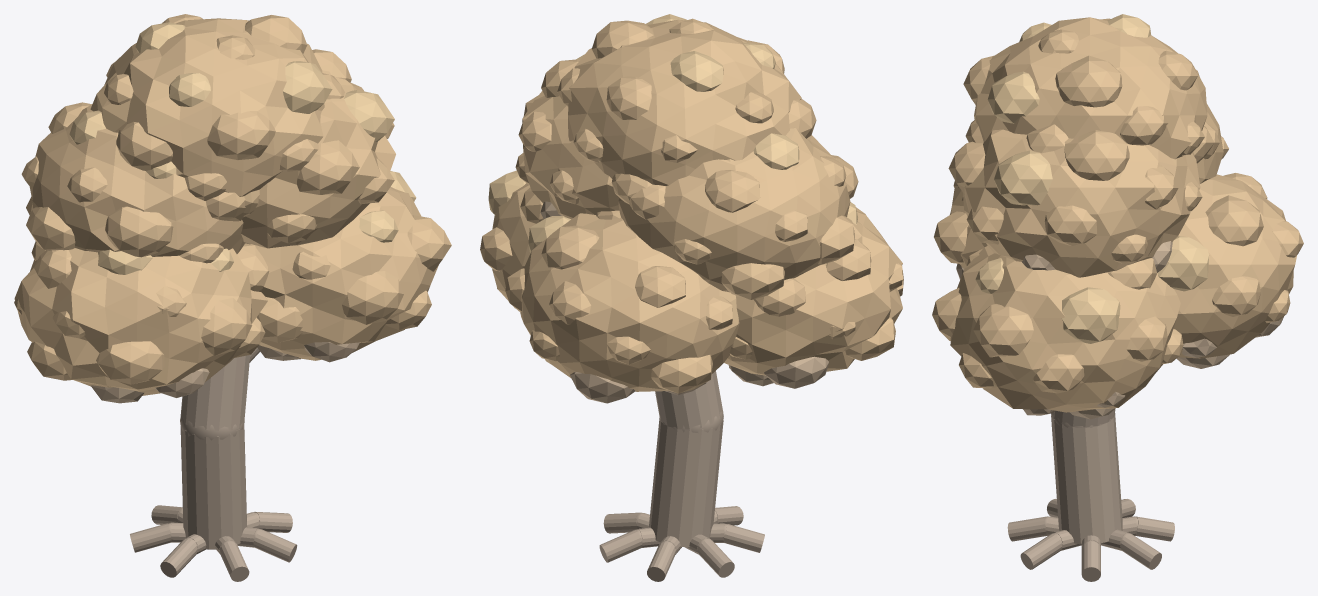
File: library_tree_autumn.glb
The picture shows the model from 3 angles, left to right: view 1: azimuth 30°, elevation 25°; view 2: azimuth 150°, elevation 25°; view 3: azimuth 270°, elevation 25°; orthographic projection.
Visible parts, largest first — view 1: decor_bf884f_matte, decor_806751_matte, decor_d7a15d_matte, decor_94714f_matte; view 2: decor_bf884f_matte, decor_806751_matte, decor_d7a15d_matte, decor_94714f_matte; view 3: decor_bf884f_matte, decor_806751_matte, decor_d7a15d_matte, decor_94714f_matte.
Part boxes in pixels (x1,y1,x2,y2): decor_bf884f_matte: [14, 14, 451, 395]; decor_806751_matte: [130, 347, 297, 581]; decor_d7a15d_matte: [69, 22, 416, 274]; decor_94714f_matte: [90, 342, 359, 403]; decor_bf884f_matte: [480, 18, 903, 393]; decor_806751_matte: [599, 371, 764, 581]; decor_d7a15d_matte: [488, 14, 857, 253]; decor_94714f_matte: [497, 201, 828, 403]; decor_bf884f_matte: [932, 17, 1303, 412]; decor_806751_matte: [1007, 409, 1174, 581]; decor_d7a15d_matte: [975, 14, 1209, 343]; decor_94714f_matte: [956, 241, 1283, 419].
Bounding box in the file's own units: 3.3 × 4.08 × 2.67.
